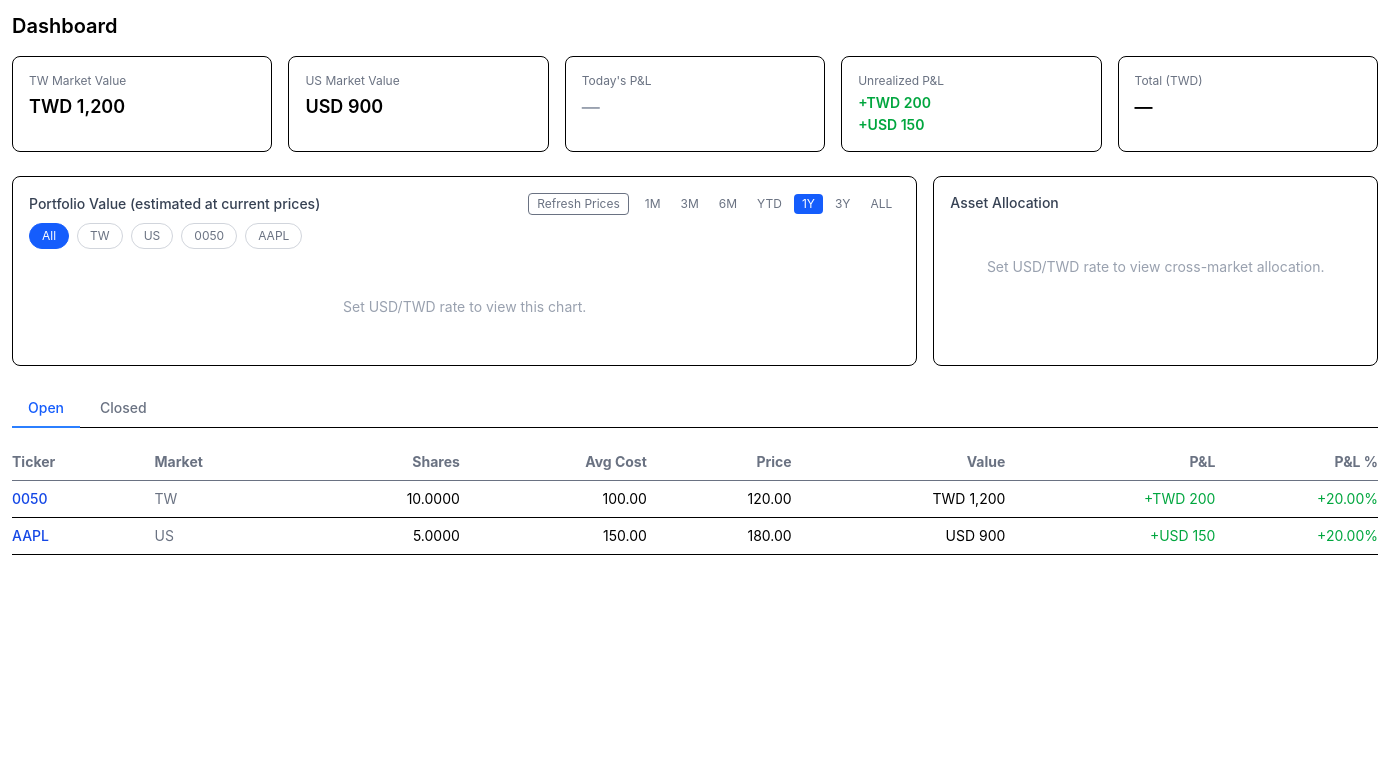
Test: Dashboard › shows US view chart without needing exchange rate
The width and height of the screenshot is (1390, 780).
Check: the link "0050" is shown, box [12,490,48,507]
Click the button "US".
click(152, 236)  # box [131,223,173,249]
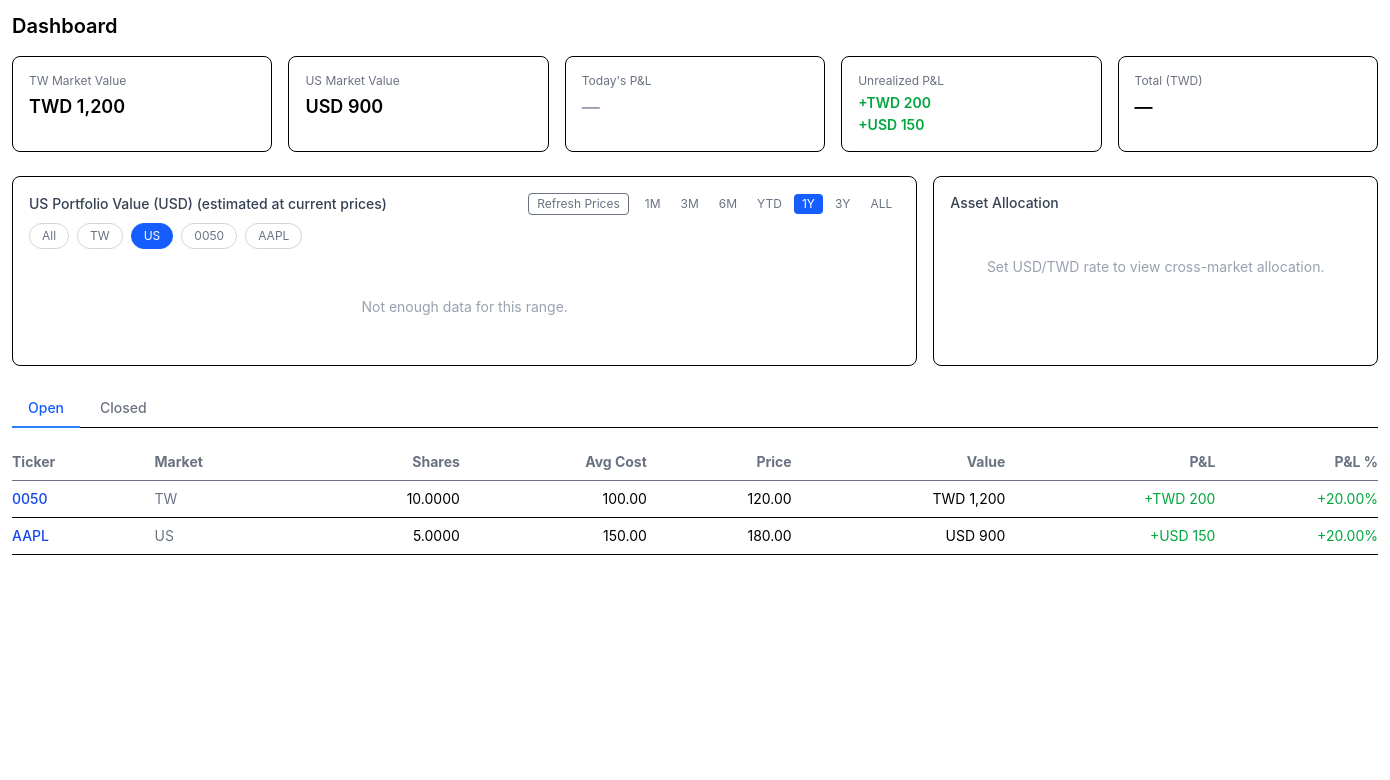
Check: the text "Set USD/TWD rate to view this chart" is gone
